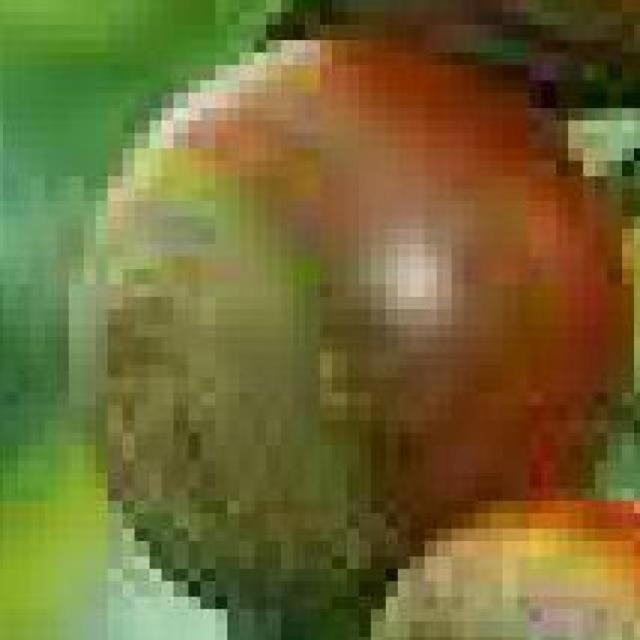Sunscald Fruit: (153, 39, 343, 405)
